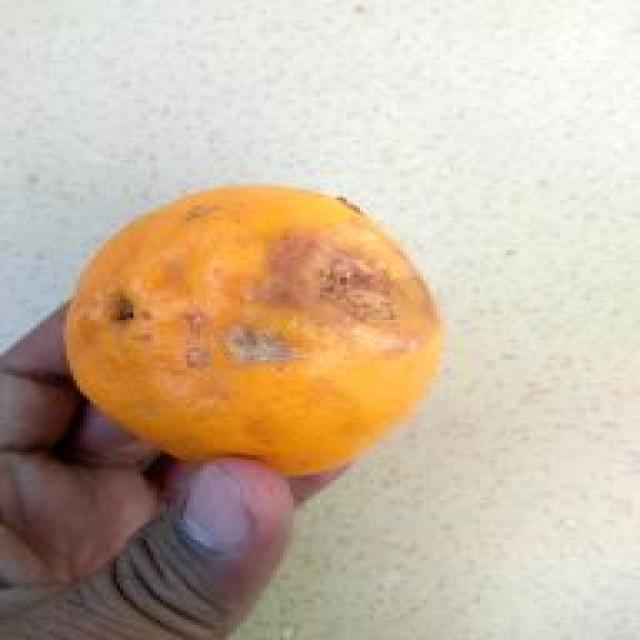Bad_Orange: (67, 186, 440, 474)
